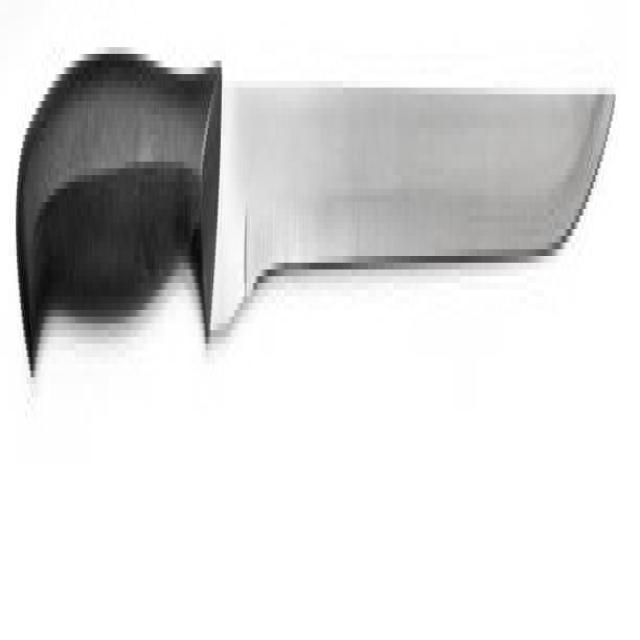knife: (15, 35, 621, 451)
